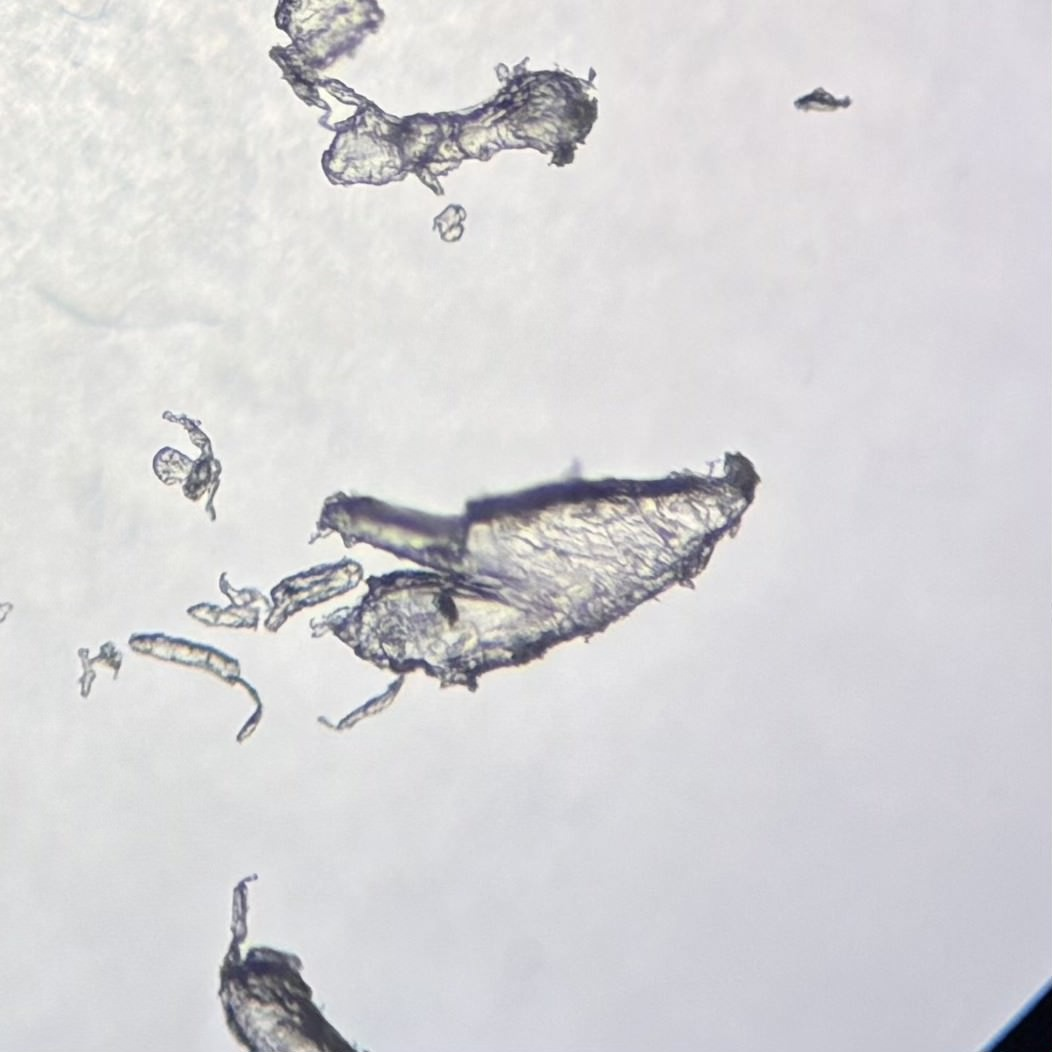microplastic: (308, 450, 761, 733), (265, 1, 599, 197), (216, 873, 375, 1052), (128, 631, 263, 746), (185, 557, 363, 633), (153, 412, 226, 526), (73, 640, 122, 700), (794, 85, 851, 112), (430, 203, 466, 241)
